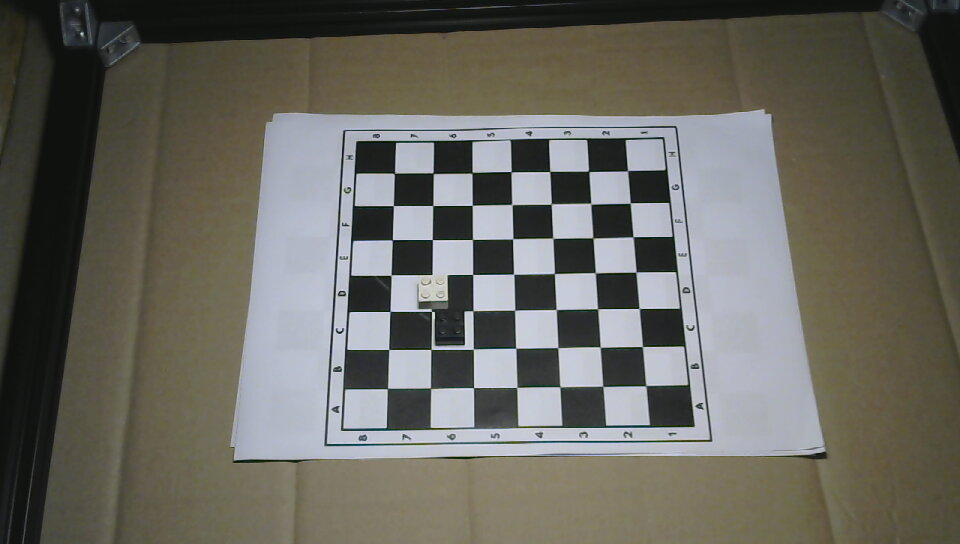bp: (432, 307, 468, 349)
